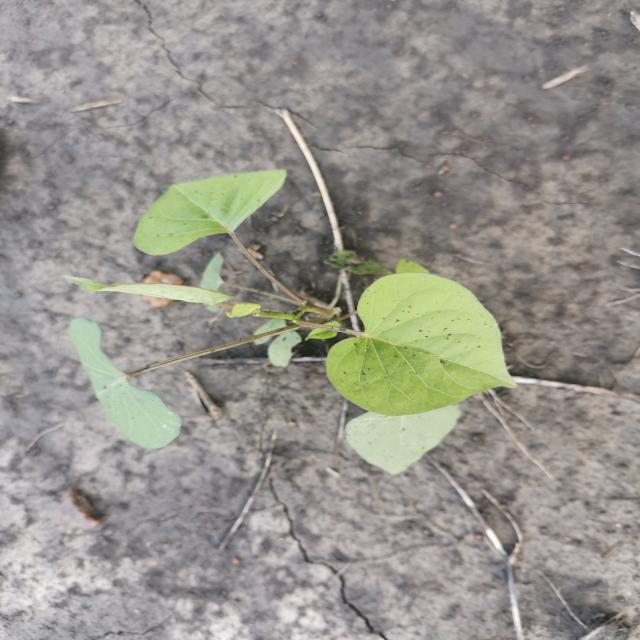MorningGlory: (61, 164, 523, 481)
